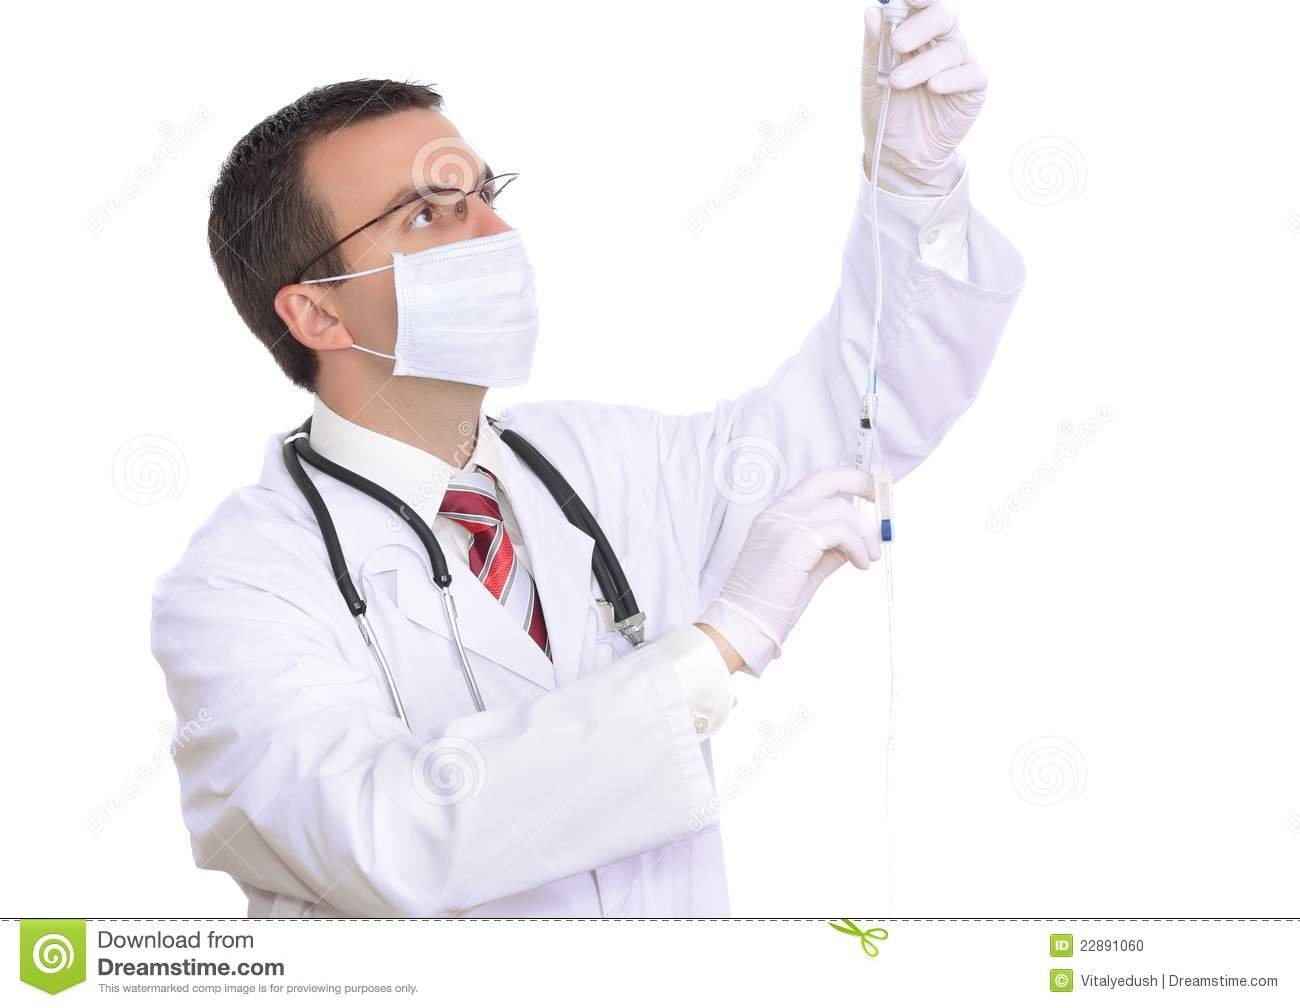mask: (393, 236, 551, 387)
